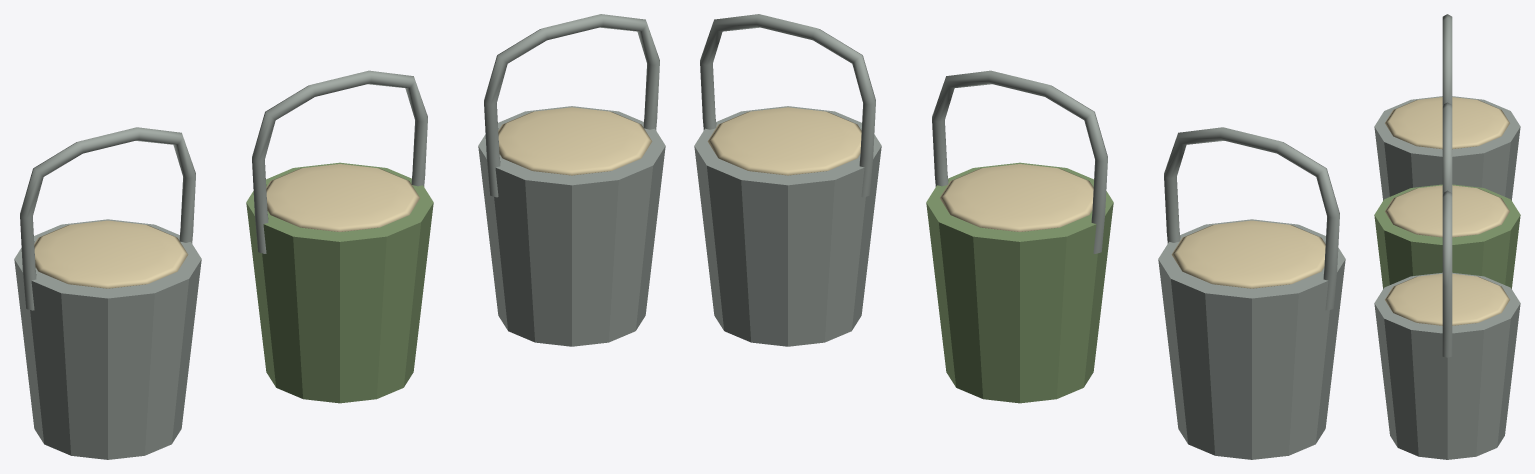
Rendered from zoo-and-safari-park-builder-feed-bucket-set-5d462501__21510.glb.
The picture shows the model from 3 angles, left to right: view 1: azimuth 30°, elevation 25°; view 2: azimuth 150°, elevation 25°; view 3: azimuth 270°, elevation 25°; orthographic projection. The views are drawn at different scales.
Visible parts, largest first — view 1: feed-bucket-set; view 2: feed-bucket-set; view 3: feed-bucket-set.
Part boxes in pixels (x1,y1,x2,y2): feed-bucket-set: [14, 14, 665, 459]; feed-bucket-set: [694, 14, 1345, 459]; feed-bucket-set: [1374, 14, 1520, 459].
Bounding box in the file's own units: 1.1 × 0.4854 × 0.28.
